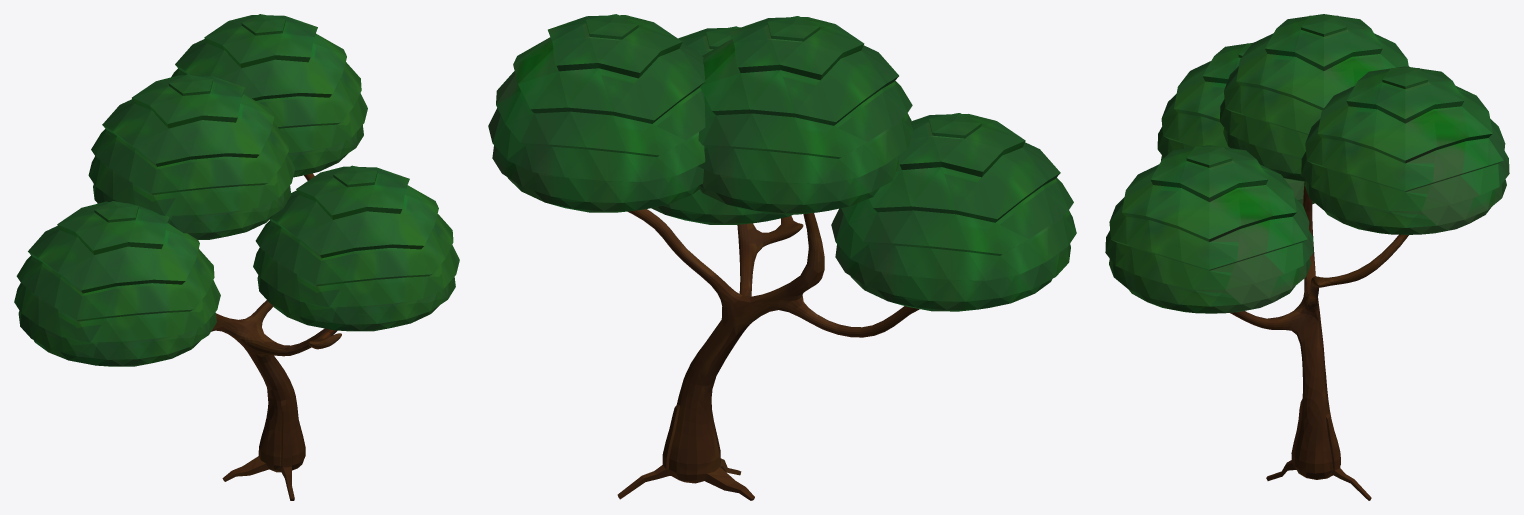
The model's file is Tree.fbx.
3 renders of one model, left to right at view 1: azimuth 30°, elevation 25°; view 2: azimuth 150°, elevation 25°; view 3: azimuth 270°, elevation 25°, orthographic. The views are drawn at different scales.
Parts seen in each view (by area): view 1: Leaves1, Leaves, Leaves.001, Leaves1.001, Tree; view 2: Leaves1.001, Leaves, Leaves.001, Tree, Leaves1; view 3: Leaves1, Leaves1.001, Leaves.001, Tree, Leaves.
Boxes of the visible parts, left/top/right/bottom form: Leaves1: left=253, top=165, right=459, bottom=331; Leaves: left=14, top=201, right=220, bottom=366; Leaves.001: left=88, top=74, right=295, bottom=239; Leaves1.001: left=171, top=14, right=367, bottom=177; Tree: left=211, top=173, right=341, bottom=500; Leaves1.001: left=488, top=14, right=705, bottom=212; Leaves: left=831, top=113, right=1076, bottom=311; Leaves.001: left=698, top=16, right=912, bottom=214; Tree: left=617, top=209, right=919, bottom=500; Leaves1: left=651, top=26, right=792, bottom=224; Leaves1: left=1105, top=145, right=1313, bottom=313; Leaves1.001: left=1301, top=66, right=1509, bottom=234; Leaves.001: left=1220, top=14, right=1409, bottom=181; Tree: left=1230, top=182, right=1408, bottom=500; Leaves: left=1157, top=43, right=1314, bottom=204.
Size of the model in its own units: 788 by 802 by 688.
